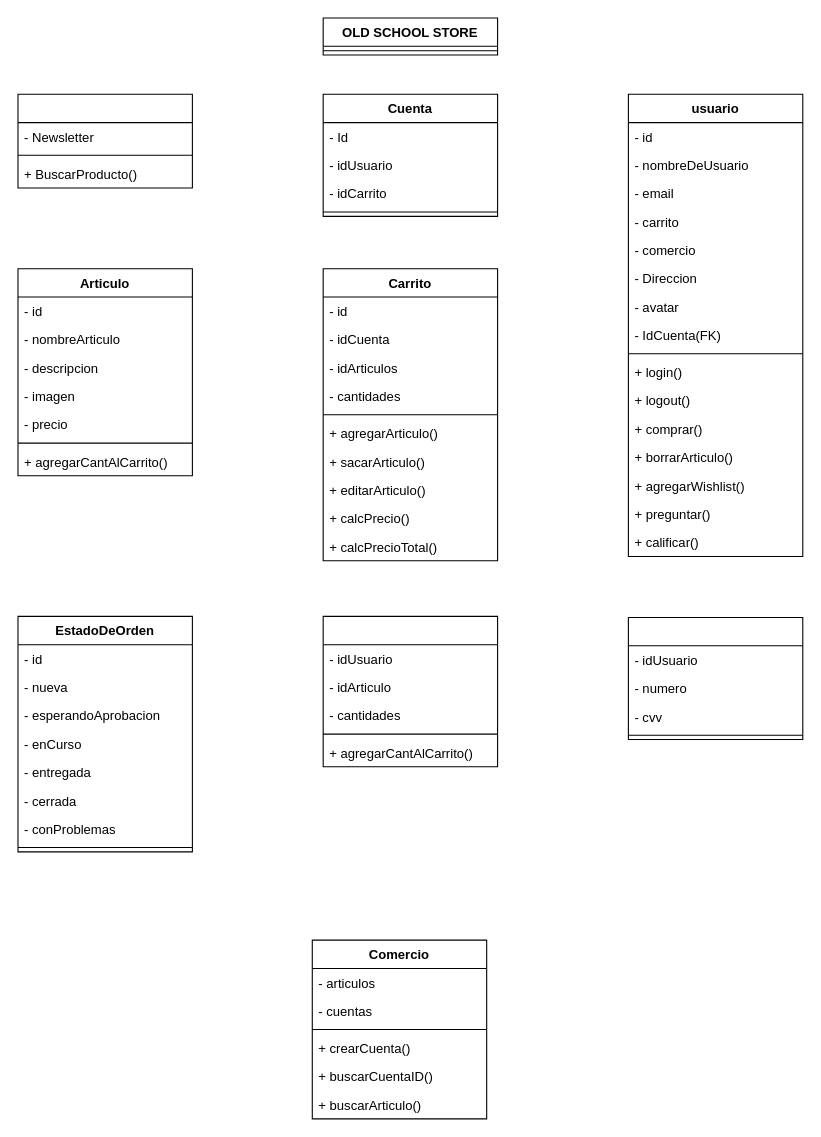
Some shapes in this 821 by 1137 pixel diagram are drawn without their labels. The shapes that lost their labels are listed below. From the top down, each one's box as (x1, y1, x2, y2) in pixels, then its label:
(17, 93, 192, 188): NoUsuario
(322, 615, 498, 767): Wishlist
(627, 616, 803, 740): Tarjetas
